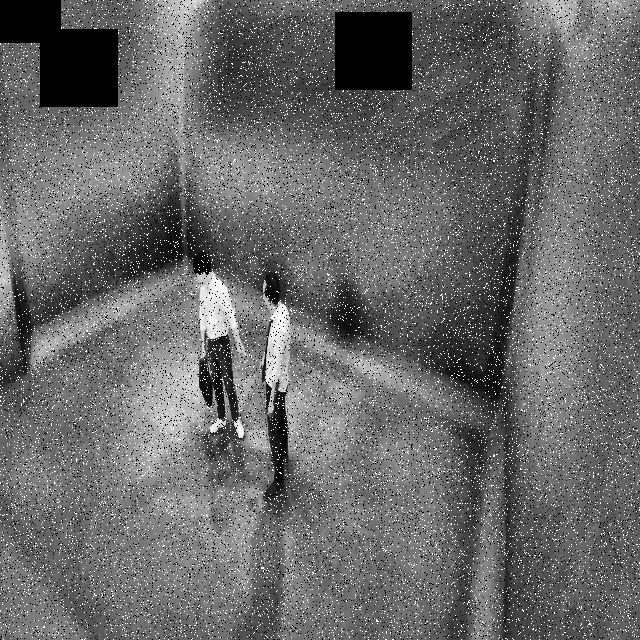assult: (185, 240, 297, 507)
